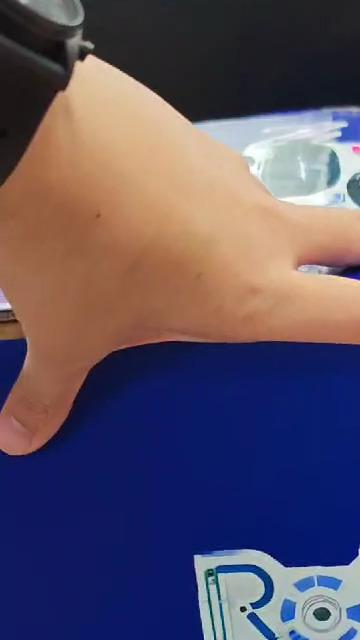B_R1: (47, 497, 360, 640)
